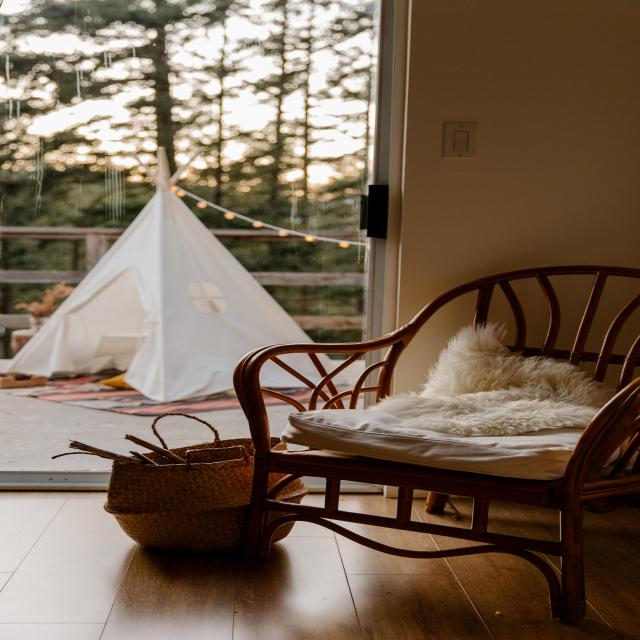chair: (224, 308, 640, 566)
window: (0, 4, 458, 478)
